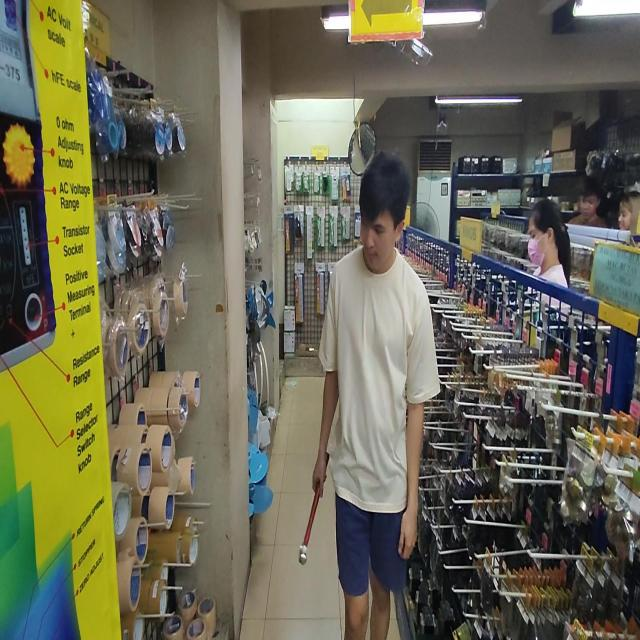hammer: (299, 452, 329, 565)
